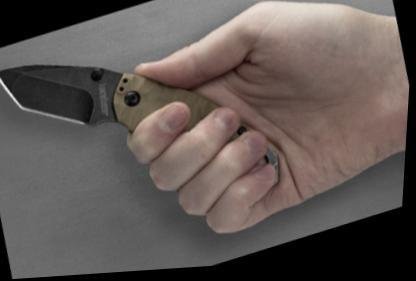knife: (0, 0, 278, 231)
